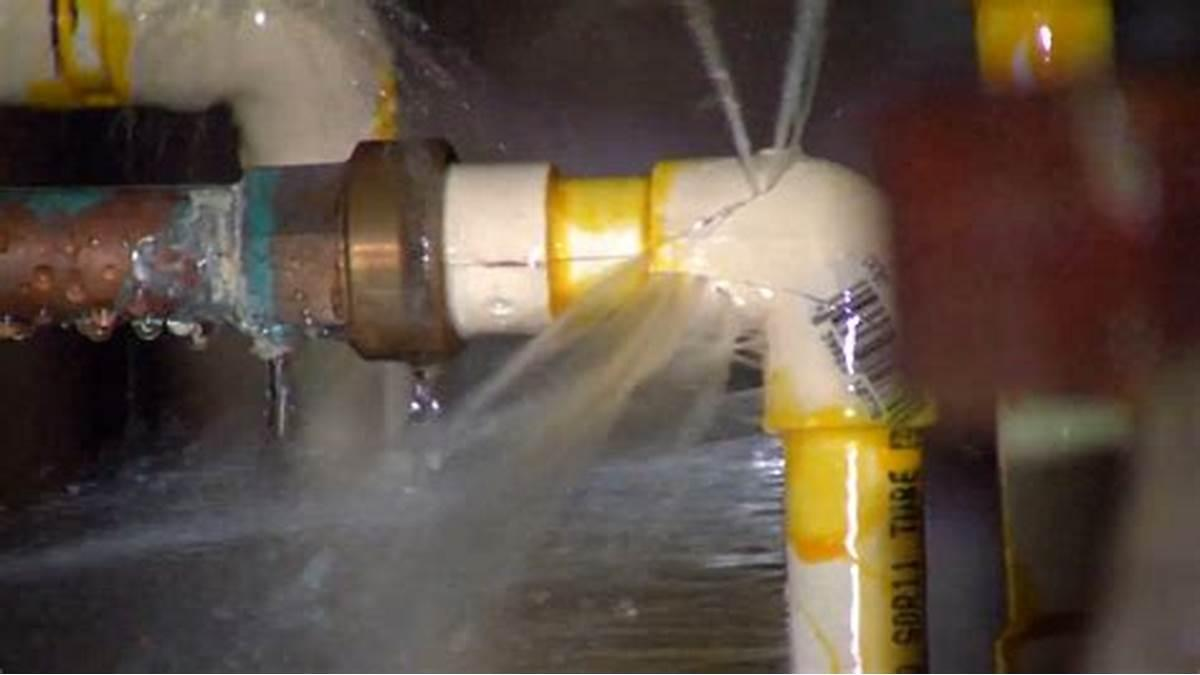pipe burst: (233, 0, 831, 675)
water drop: (395, 348, 446, 425), (78, 312, 117, 340), (0, 316, 38, 340), (132, 319, 164, 339), (167, 316, 196, 338)
